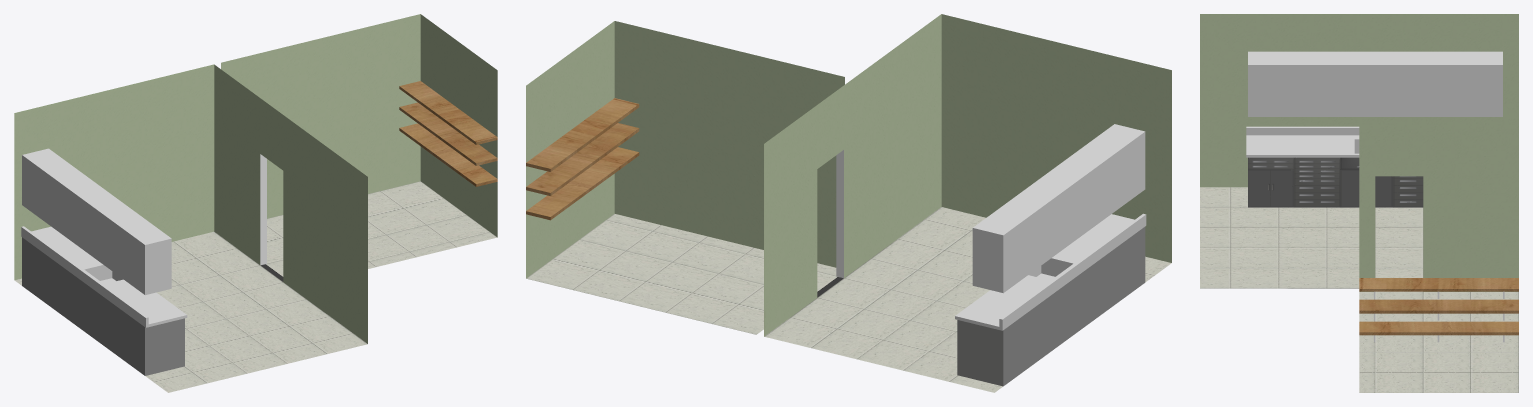
File: chemlablayout.gltf
The picture shows the model from 3 angles, left to right: view 1: azimuth 30°, elevation 25°; view 2: azimuth 150°, elevation 25°; view 3: azimuth 270°, elevation 25°; orthographic projection. The views are drawn at different scales.
Parts seen in each view (by area): view 1: floor, wall3, wall2, wall6, wallcabinet, wall7, floorcabinet, wallshelves, floorcabinetsurface, doorway; view 2: floor, wall8, wall4, wall3, wallcabinet, wall7, floorcabinet, wallshelves, floorcabinetsurface, doorway; view 3: floor, wall1, wall5, wallcabinet, floorcabinet, wallshelves, floorcabinetsurface.
Boxes of the visible parts, bbox=[...] form: floor: bbox=[15, 181, 496, 392]; wall3: bbox=[214, 64, 367, 343]; wall2: bbox=[14, 64, 214, 280]; wall6: bbox=[221, 14, 420, 218]; wallcabinet: bbox=[22, 148, 171, 295]; wall7: bbox=[420, 14, 497, 237]; floorcabinet: bbox=[22, 237, 184, 375]; wallshelves: bbox=[399, 81, 497, 186]; floorcabinetsurface: bbox=[21, 226, 187, 327]; doorway: bbox=[260, 154, 266, 265]; floor: bbox=[526, 207, 1171, 392]; wall8: bbox=[614, 21, 844, 267]; wall4: bbox=[941, 14, 1171, 262]; wall3: bbox=[764, 14, 941, 336]; wallcabinet: bbox=[972, 124, 1145, 293]; wall7: bbox=[526, 21, 614, 278]; floorcabinet: bbox=[957, 227, 1145, 386]; wallshelves: bbox=[526, 98, 639, 220]; floorcabinetsurface: bbox=[955, 213, 1146, 330]; doorway: bbox=[836, 150, 843, 278]; floor: bbox=[1200, 187, 1518, 392]; wall1: bbox=[1200, 14, 1518, 187]; wall5: bbox=[1359, 118, 1518, 291]; wallcabinet: bbox=[1248, 51, 1502, 116]; floorcabinet: bbox=[1248, 157, 1423, 207]; wallshelves: bbox=[1359, 278, 1518, 335]; floorcabinetsurface: bbox=[1246, 126, 1359, 157].
Bounding box in the file's own units: 30.5 × 12 × 20.
13 materials, 12 textured.
